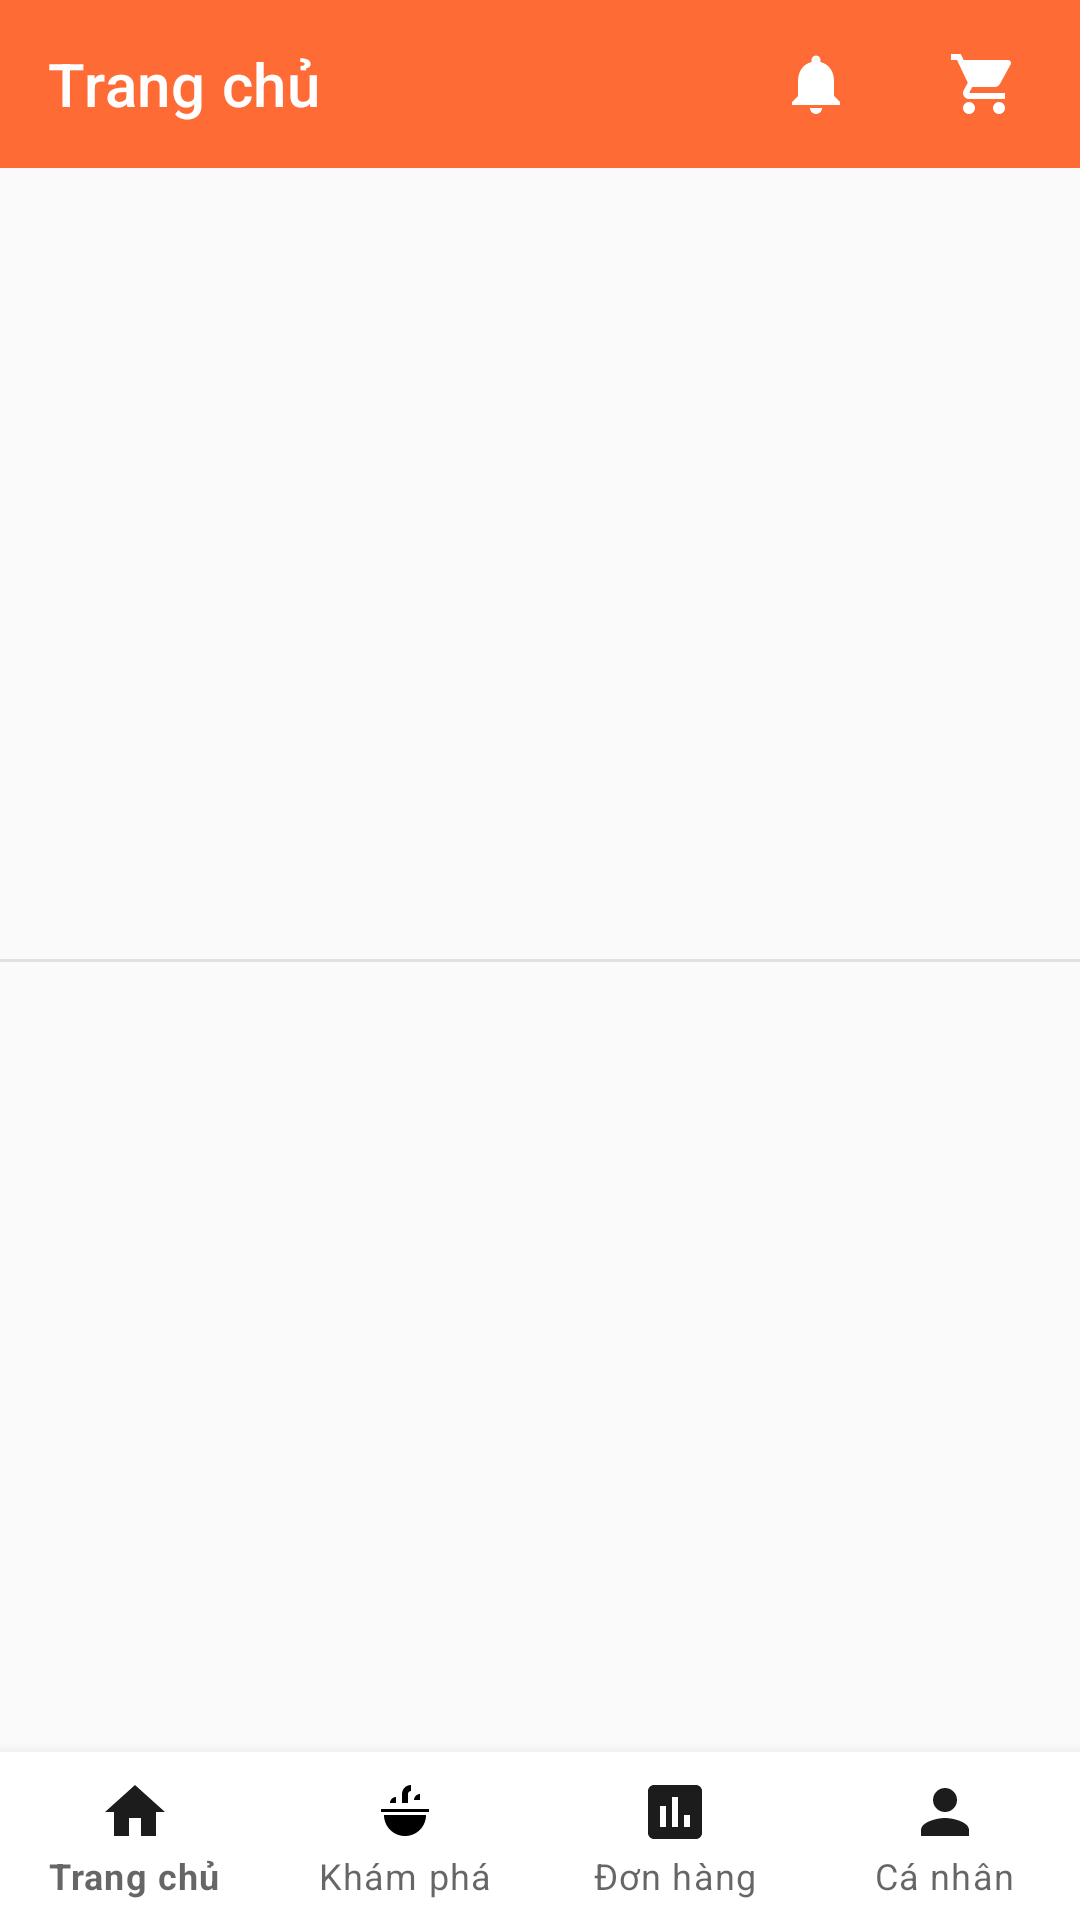

Icons on this 1080px×1920px Android screen, each with its box as box=[x1, y1, x2, y2]:
Mở giỏ hàng: box=[951, 54, 1011, 114]
Mở thông báo: box=[792, 55, 840, 114]
